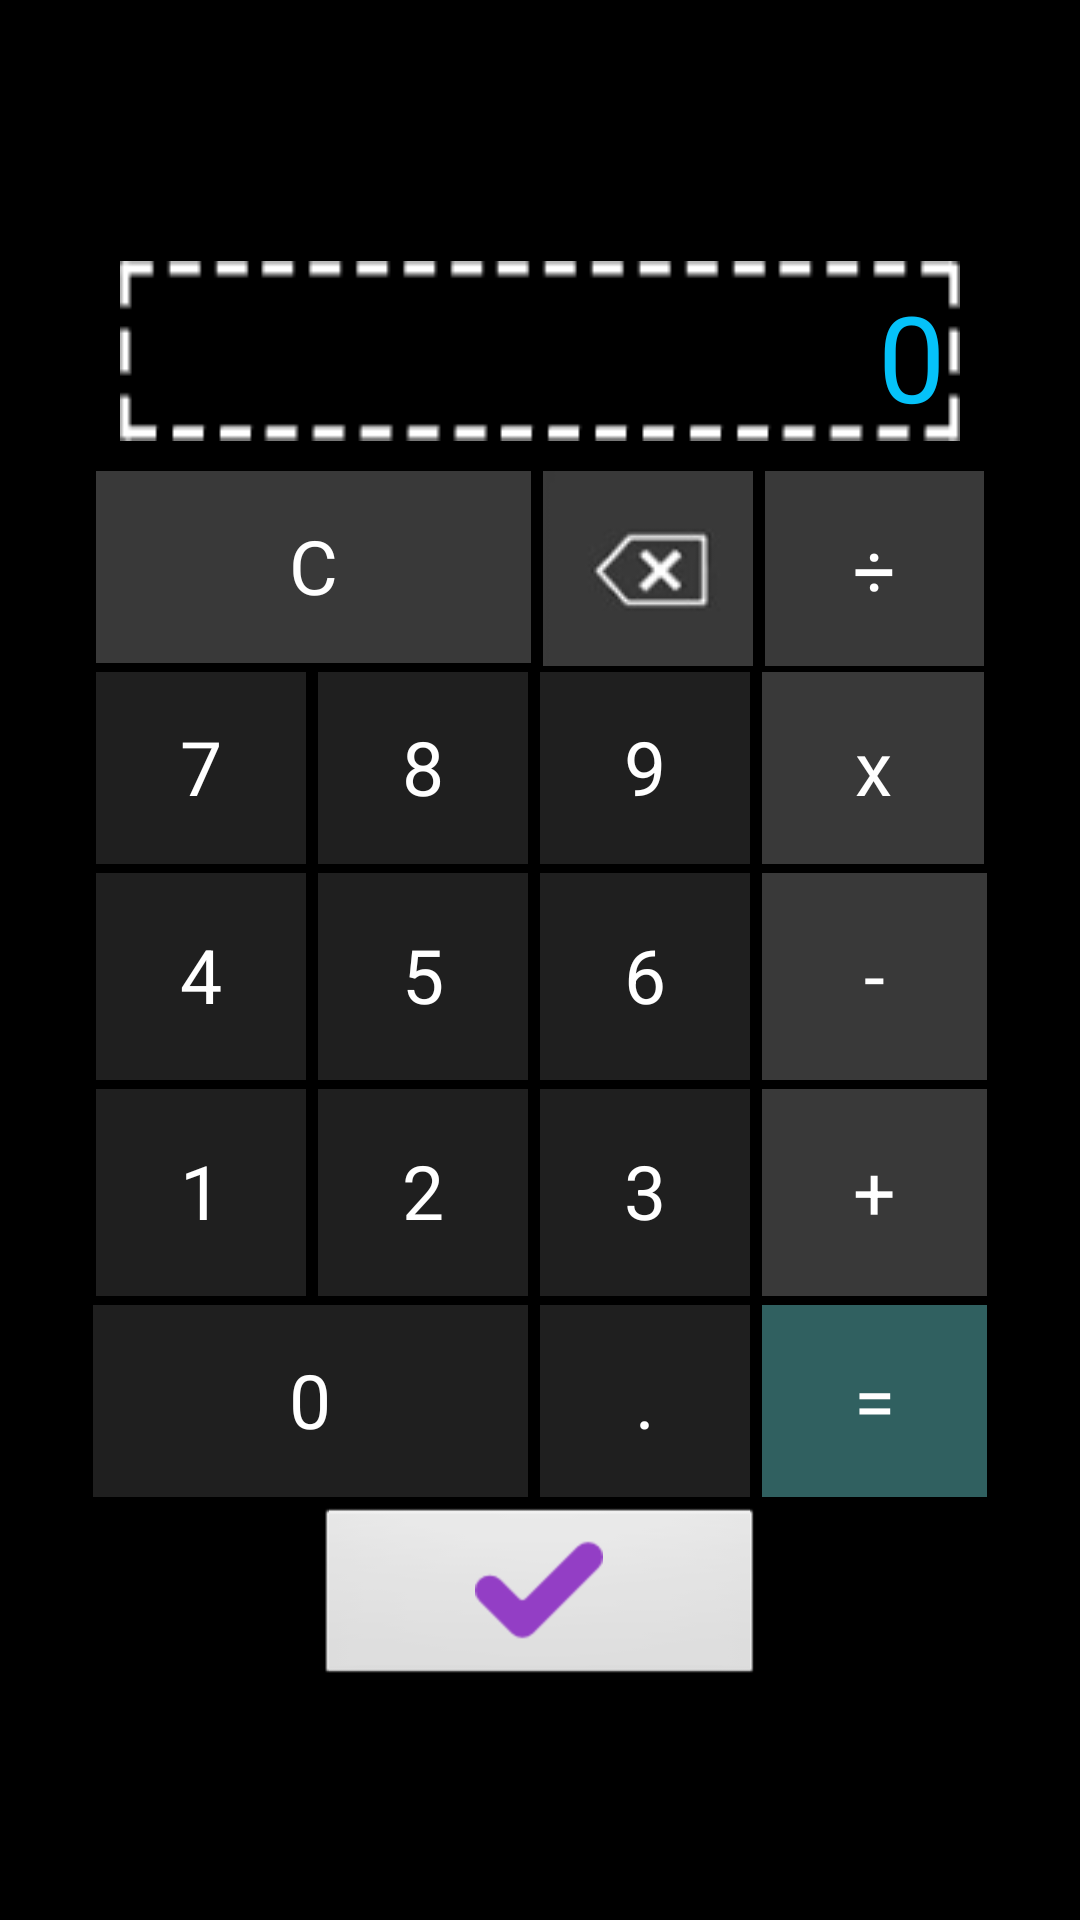

Point at icon controls on the screen. Image size 1080 × 1920, points as point (x, y).
btndel: point (648, 568)
